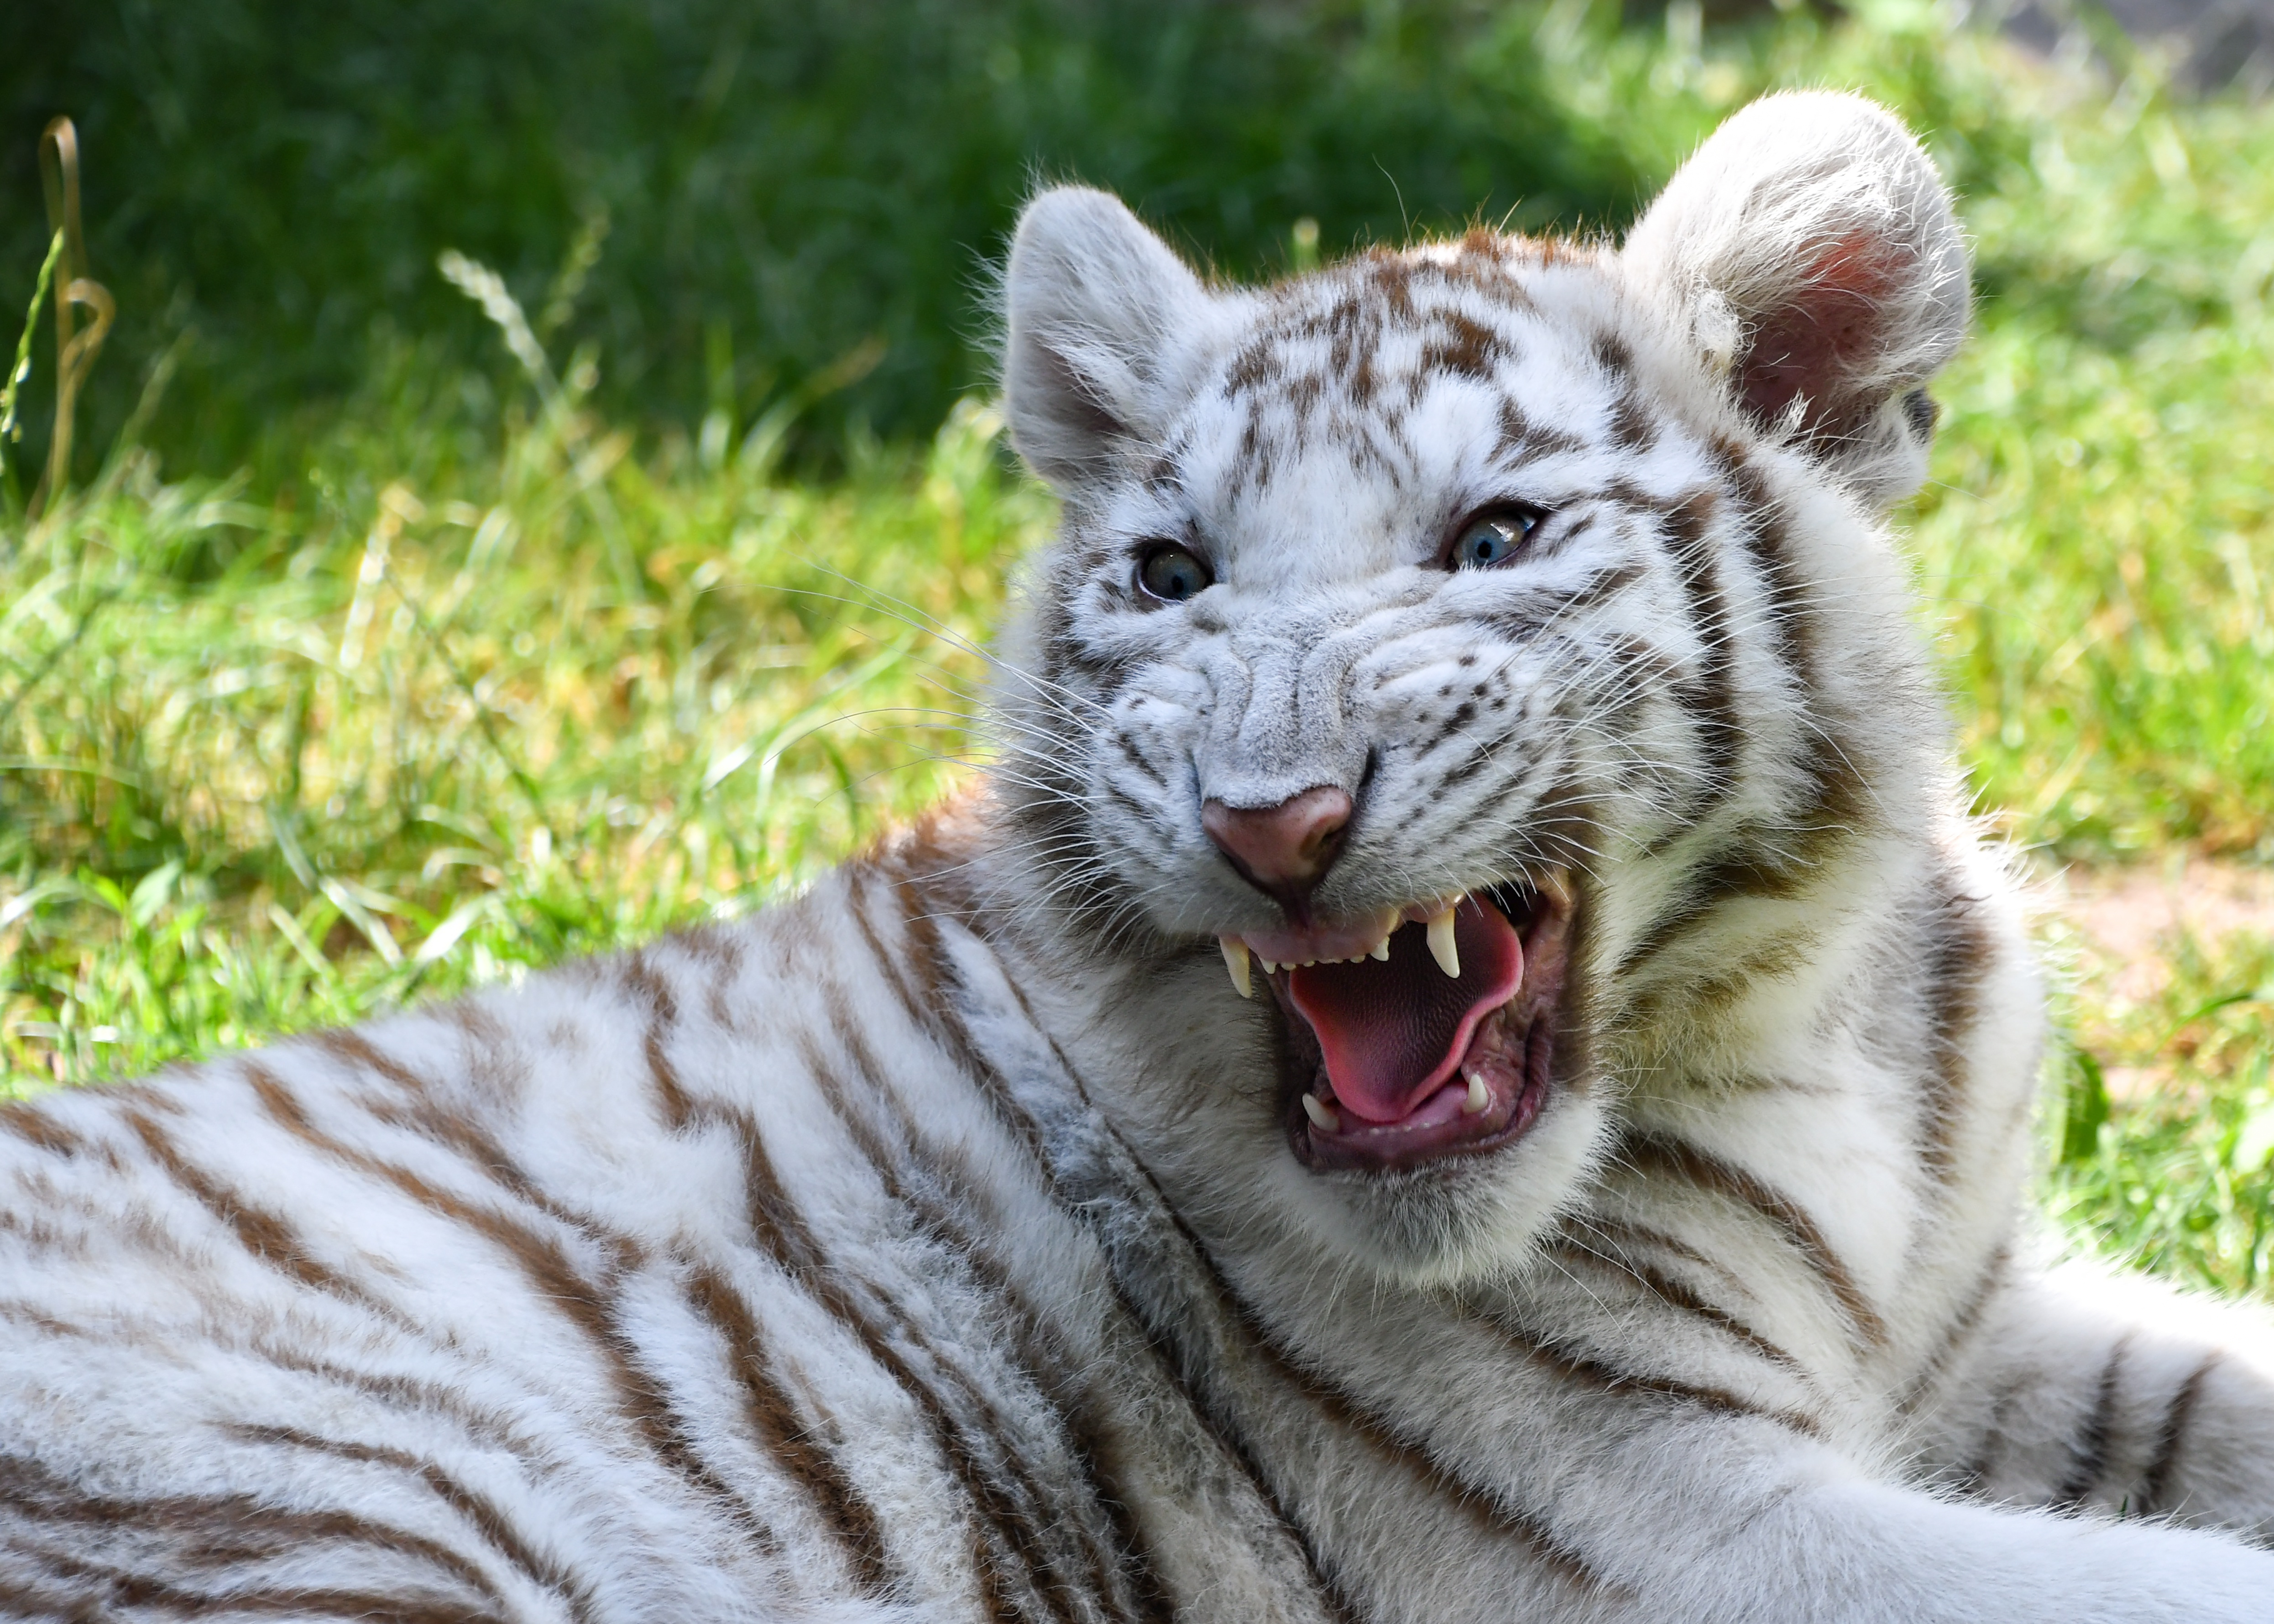tiger: (91, 86, 2234, 1596)
